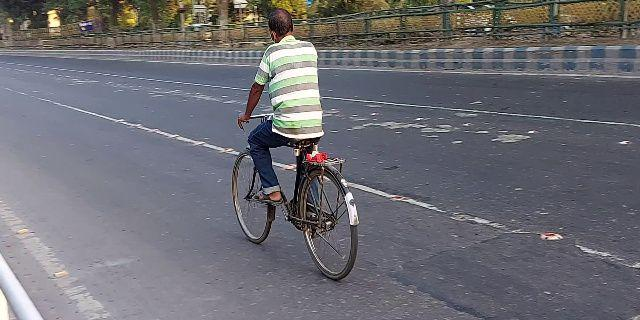Cycle: (224, 7, 365, 284)
